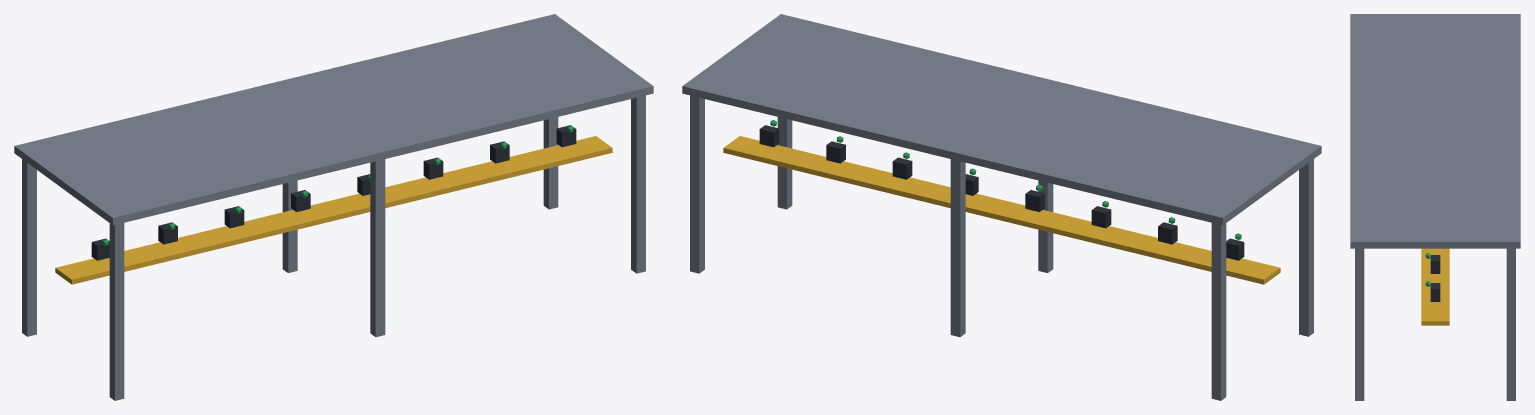
The model's file is reefer_rack.glb.
3 renders of one model, left to right at view 1: azimuth 30°, elevation 25°; view 2: azimuth 150°, elevation 25°; view 3: azimuth 270°, elevation 25°, orthographic. The views are drawn at different scales.
Parts seen in each view (by area): view 1: reefer_rack; view 2: reefer_rack; view 3: reefer_rack.
Boxes of the visible parts, bbox=[...] form: reefer_rack: bbox=[14, 14, 653, 400]; reefer_rack: bbox=[682, 14, 1321, 400]; reefer_rack: bbox=[1350, 14, 1520, 400].
Size of the model in its own units: 11.4 by 3.75 by 3.6.
